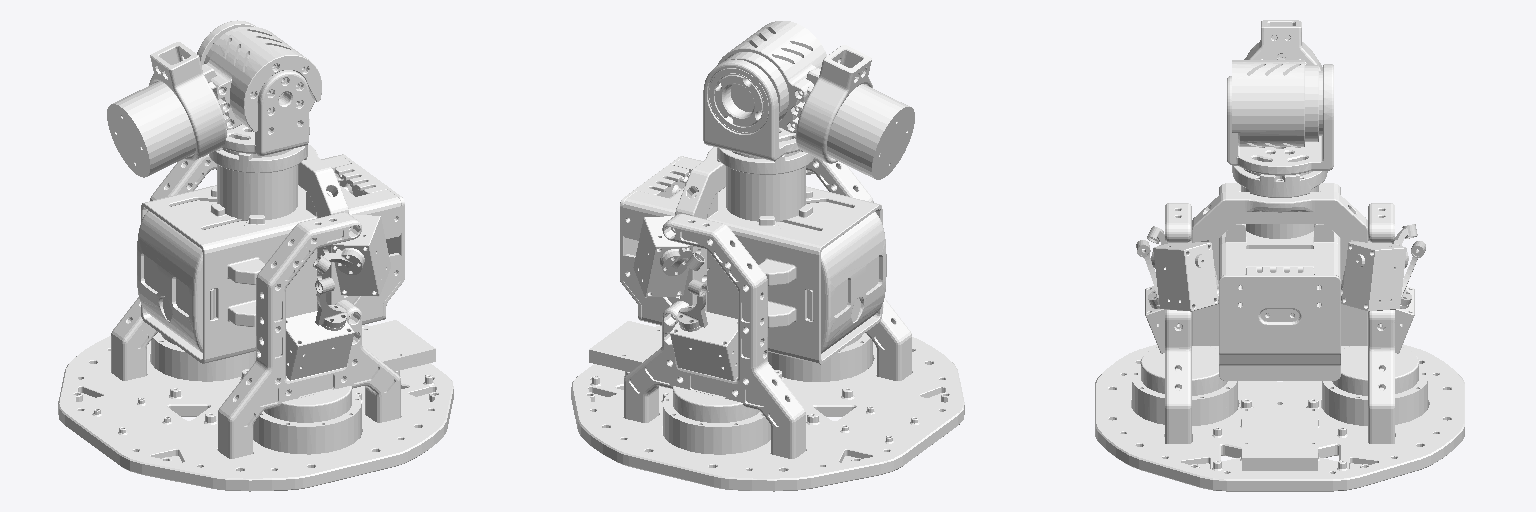
robot.urdf — dreambo_torso:
<?xml version="1.0" encoding="utf-8"?>
<robot name="dreambo_torso">
  <link
    name="base_link">
    <inertial>
      <origin xyz="0.00510423680323092 1.05408567854846E-06 0.0780364587105506" rpy="0 0 0" />
      <mass value="1e-09" />
      <inertia ixx="0.00640989034291959" ixy="-1.06937278701886E-07" ixz="4.35704398716628E-05" iyy="0.00803915882264379" iyz="2.76729762060599E-08" izz="0.0107547518033842" />
    </inertial>
    <visual>
      <origin xyz="0 0 0" rpy="0 0 0" />
      <geometry>
        <mesh filename="package://dreambo_torso/meshes/base_link.STL" />
      </geometry>
      <material name="">
        <color rgba="1 1 1 1" />
      </material>
    </visual>
    <collision>
      <origin xyz="0 0 0" rpy="0 0 0" />
      <geometry>
        <mesh filename="package://dreambo_torso/meshes/base_link.STL" />
      </geometry>
    </collision>
  </link>
  <link name="l_arm_pitch_link">
    <inertial>
      <origin
        xyz="-0.00272080141029714 0.00734963864566155 0.00585575478034783"
        rpy="0 0 0" />
      <mass
        value="0.00167919809468606" />
      <inertia
        ixx="2.10796257242506E-07"
        ixy="3.70882236821578E-08"
        ixz="4.12976444768763E-08"
        iyy="1.64770893400219E-07"
        iyz="-7.98219707699893E-08"
        izz="1.41103048346567E-07" />
    </inertial>
    <visual>
      <origin
        xyz="0 0 0"
        rpy="0 0 0" />
      <geometry>
        <mesh
          filename="package://dreambo_torso/meshes/l_arm_pitch_link.STL" />
      </geometry>
      <material
        name="">
        <color
          rgba="0.894117647058823 0.894117647058823 0.894117647058823 1" />
      </material>
    </visual>
    <collision>
      <origin
        xyz="0 0 0"
        rpy="0 0 0" />
      <geometry>
        <mesh
          filename="package://dreambo_torso/meshes/l_arm_pitch_link.STL" />
      </geometry>
    </collision>
  </link>
  <joint name="l_arm_pitch_joint" type="revolute">
    <origin xyz="0.0284969243091808 0.0845270764279396 0.141177215668516" rpy="-0.262997873967215 -0.0977384381116747 0.807389311972579" />
    <parent link="base_link" />
    <child link="l_arm_pitch_link" />
    <axis xyz="0 -1 0" />
    <limit lower="-3.14" upper="3.14" effort="10" velocity="1e+08" />
  </joint>
  <link name="l_arm_yaw_link">
    <inertial>
      <origin xyz="-0.00609191506312685 0.00115955541487422 0.0137493541862755" rpy="0 0 0" />
      <mass value="0.00259241901469074" />
      <inertia
        ixx="5.19111867678668E-07"
        ixy="1.96473346455597E-08"
        ixz="1.85205175269411E-07"
        iyy="6.18593074002241E-07"
        iyz="-3.52524664633172E-08"
        izz="1.71809849710816E-07" />
    </inertial>
    <visual>
      <origin
        xyz="0 0 0"
        rpy="0 0 0" />
      <geometry>
        <mesh
          filename="package://dreambo_torso/meshes/l_arm_yaw_link.STL" />
      </geometry>
      <material
        name="">
        <color
          rgba="0.894117647058823 0.894117647058823 0.894117647058823 1" />
      </material>
    </visual>
    <collision>
      <origin
        xyz="0 0 0"
        rpy="0 0 0" />
      <geometry>
        <mesh
          filename="package://dreambo_torso/meshes/l_arm_yaw_link.STL" />
      </geometry>
    </collision>
  </link>
  <joint name="l_arm_yaw_joint" type="revolute">
    <origin xyz="0.012 0.0869507292306195 0.10052826249908" rpy="-0.349065850398861 0 0" />
    <parent link="base_link" />
    <child link="l_arm_yaw_link" />
    <axis xyz="0 0 -1" />
    <limit lower="-3.14" upper="3.14" effort="10" velocity="1e+08" />
  </joint>
  <link name="r_arm_pitch_link">
    <inertial>
      <origin
        xyz="0.00453328942861779 0.00734963610166351 0.00459802861823644"
        rpy="0 0 0" />
      <mass
        value="0.00167920163286678" />
      <inertia
        ixx="1.76715737279251E-07"
        ixy="-6.17949959569628E-08"
        ixz="-5.40295856745528E-08"
        iyy="1.64770913467681E-07"
        iyz="-6.26774479578327E-08"
        izz="1.75183593040923E-07" />
    </inertial>
    <visual>
      <origin
        xyz="0 0 0"
        rpy="0 0 0" />
      <geometry>
        <mesh
          filename="package://dreambo_torso/meshes/r_arm_pitch_link.STL" />
      </geometry>
      <material
        name="">
        <color
          rgba="0.894117647058823 0.894117647058823 0.894117647058823 1" />
      </material>
    </visual>
    <collision>
      <origin
        xyz="0 0 0"
        rpy="0 0 0" />
      <geometry>
        <mesh
          filename="package://dreambo_torso/meshes/r_arm_pitch_link.STL" />
      </geometry>
    </collision>
  </link>
  <joint
    name="r_arm_pitch_joint"
    type="revolute">
    <origin
      xyz="0.0284969243091807 -0.0845270764279395 0.141177215668516"
      rpy="-0.262997873967217 0.0977384381116756 2.33420334161721" />
    <parent
      link="base_link" />
    <child
      link="r_arm_pitch_link" />
    <axis
      xyz="0 -1 0" />
    <limit lower="-3.14" upper="3.14" effort="10" velocity="1e+08" />
  </joint>
  <link
    name="r_arm_yaw_link">
    <inertial>
      <origin
        xyz="-0.00618420192715495 -0.000460033720488529 0.013749352698381"
        rpy="0 0 0" />
      <mass
        value="0.00259241998644893" />
      <inertia
        ixx="5.15960879861057E-07"
        ixy="-7.91293241774731E-09"
        ixz="1.88010927533749E-07"
        iyy="6.21744298270512E-07"
        iyz="1.39859749087212E-08"
        izz="1.71809929251273E-07" />
    </inertial>
    <visual>
      <origin
        xyz="0 0 0"
        rpy="0 0 0" />
      <geometry>
        <mesh
          filename="package://dreambo_torso/meshes/r_arm_yaw_link.STL" />
      </geometry>
      <material
        name="">
        <color
          rgba="0.894117647058823 0.894117647058823 0.894117647058823 1" />
      </material>
    </visual>
    <collision>
      <origin
        xyz="0 0 0"
        rpy="0 0 0" />
      <geometry>
        <mesh
          filename="package://dreambo_torso/meshes/r_arm_yaw_link.STL" />
      </geometry>
    </collision>
  </link>
  <joint
    name="r_arm_yaw_joint"
    type="revolute">
    <origin
      xyz="0.012 -0.0869507292306194 0.10052826249908"
      rpy="0.349065850398861 0 0" />
    <parent
      link="base_link" />
    <child
      link="r_arm_yaw_link" />
    <axis
      xyz="0 0 -1" />
    <limit lower="-3.14" upper="3.14" effort="10" velocity="1e+08" />
  </joint>
  <link
    name="neck_yaw_link">
    <inertial>
      <origin
        xyz="-0.000118390917580292 -0.000163736453183187 0.0267742198088634"
        rpy="0 0 0" />
      <mass
        value="0.0720973162021037" />
      <inertia
        ixx="7.39797977960674E-05"
        ixy="1.91841330015629E-08"
        ixz="-1.44551004966344E-07"
        iyy="4.29032220807131E-05"
        iyz="6.9802396460188E-06"
        izz="7.03888404432441E-05" />
    </inertial>
    <visual>
      <origin
        xyz="0 0 0"
        rpy="0 0 0" />
      <geometry>
        <mesh
          filename="package://dreambo_torso/meshes/neck_yaw_link.STL" />
      </geometry>
      <material
        name="">
        <color
          rgba="1 1 1 1" />
      </material>
    </visual>
    <collision>
      <origin
        xyz="0 0 0"
        rpy="0 0 0" />
      <geometry>
        <mesh
          filename="package://dreambo_torso/meshes/neck_yaw_link.STL" />
      </geometry>
    </collision>
  </link>
  <joint
    name="neck_yaw_joint"
    type="revolute">
    <origin
      xyz="0.00150000000000007 0 0.201885281374239"
      rpy="0 0 0" />
    <parent
      link="base_link" />
    <child
      link="neck_yaw_link" />
    <axis
      xyz="0 0 -1" />
    <limit lower="-0.5" upper="0.5" effort="14" velocity="30" />
  </joint>
  <link
    name="neck_pitch_link">
    <inertial>
      <origin
        xyz="-0.00405298935067391 0.0245448879865769 -0.000595376655887464"
        rpy="0 0 0" />
      <mass
        value="0.209677573827466" />
      <inertia
        ixx="9.70461057171466E-05"
        ixy="3.19292106789879E-06"
        ixz="-2.11412218205528E-06"
        iyy="0.000103980079227489"
        iyz="2.29375386099599E-06"
        izz="0.000103780425536474" />
    </inertial>
    <visual>
      <origin
        xyz="0 0 0"
        rpy="0 0 0" />
      <geometry>
        <mesh
          filename="package://dreambo_torso/meshes/neck_pitch_link.STL" />
      </geometry>
      <material
        name="">
        <color
          rgba="1 1 1 1" />
      </material>
    </visual>
    <collision>
      <origin
        xyz="0 0 0"
        rpy="0 0 0" />
      <geometry>
        <mesh
          filename="package://dreambo_torso/meshes/neck_pitch_link.STL" />
      </geometry>
    </collision>
  </link>
  <joint
    name="neck_pitch_joint"
    type="revolute">
    <origin
      xyz="0 -0.024629 0.0525"
      rpy="0 0 0" />
    <parent
      link="neck_yaw_link" />
    <child
      link="neck_pitch_link" />
    <axis
      xyz="0 1 0" />
    <limit
      lower="0"
      upper="0.4"
      effort="27"
      velocity="1e+08" />
  </joint>
  <link
    name="neck_roll_link">
    <inertial>
      <origin
        xyz="-0.0197952983922786 -8.23993651088983E-18 -0.00290190936492812"
        rpy="0 0 0" />
      <mass
        value="0.17670887366414" />
      <inertia
        ixx="9.05657782540465E-05"
        ixy="1.59812551141604E-21"
        ixz="3.26803397082947E-06"
        iyy="8.745909116263E-05"
        iyz="-5.04055886471439E-21"
        izz="8.0215525822056E-05" />
    </inertial>
    <visual>
      <origin
        xyz="0 0 0"
        rpy="0 0 0" />
      <geometry>
        <mesh
          filename="package://dreambo_torso/meshes/neck_roll_link.STL" />
      </geometry>
      <material
        name="">
        <color
          rgba="1 1 1 1" />
      </material>
    </visual>
    <collision>
      <origin
        xyz="0 0 0"
        rpy="0 0 0" />
      <geometry>
        <mesh
          filename="package://dreambo_torso/meshes/neck_roll_link.STL" />
      </geometry>
    </collision>
  </link>
  <joint name="neck_roll_joint" type="revolute">
    <origin xyz="-0.0533226000051954 0.0255 -0.012310492209311" rpy="0 0 0" />
    <parent link="neck_pitch_link" />
    <child link="neck_roll_link" />
    <axis xyz="-0.974370064785236 0 -0.22495105434386" />
    <limit lower="-0.4" upper="0.4" effort="27" velocity="20" />
  </joint>
</robot>

--- Facts derived from the render (not from the file) ---
3 views of the same robot in one strip: view 1: azimuth 30°, elevation 25°; view 2: azimuth 150°, elevation 25°; view 3: azimuth 270°, elevation 25° (orthographic).
Robot: dreambo_torso — 8 links, 7 joints (7 revolute); root link base_link; default pose: every joint at zero.
Links seen in each view (by area): view 1: base_link, neck_roll_link, neck_pitch_link, neck_yaw_link, r_arm_yaw_link, r_arm_pitch_link; view 2: base_link, neck_roll_link, neck_pitch_link, neck_yaw_link, l_arm_yaw_link, l_arm_pitch_link; view 3: base_link, neck_pitch_link, neck_yaw_link, neck_roll_link, l_arm_yaw_link.
Link boxes in pixels (bbox=[...]): base_link: bbox=[58, 144, 453, 491]; neck_roll_link: bbox=[107, 42, 226, 177]; neck_pitch_link: bbox=[202, 27, 321, 131]; neck_yaw_link: bbox=[197, 20, 309, 155]; r_arm_yaw_link: bbox=[315, 277, 346, 327]; r_arm_pitch_link: bbox=[313, 248, 363, 274]; base_link: bbox=[571, 147, 964, 491]; neck_roll_link: bbox=[795, 45, 914, 179]; neck_pitch_link: bbox=[714, 21, 826, 132]; neck_yaw_link: bbox=[703, 59, 802, 160]; l_arm_yaw_link: bbox=[677, 279, 707, 328]; l_arm_pitch_link: bbox=[660, 247, 704, 275]; base_link: bbox=[1095, 166, 1464, 491]; neck_pitch_link: bbox=[1232, 58, 1322, 146]; neck_yaw_link: bbox=[1227, 64, 1333, 175]; neck_roll_link: bbox=[1244, 20, 1322, 70]; l_arm_yaw_link: bbox=[1400, 241, 1425, 305].
Bounding box of the posed robot: 0.2658 × 0.2725 × 0.2915 m (x, y, z).
8 mesh visuals loaded from 8 distinct referenced files (8 binary STL).
